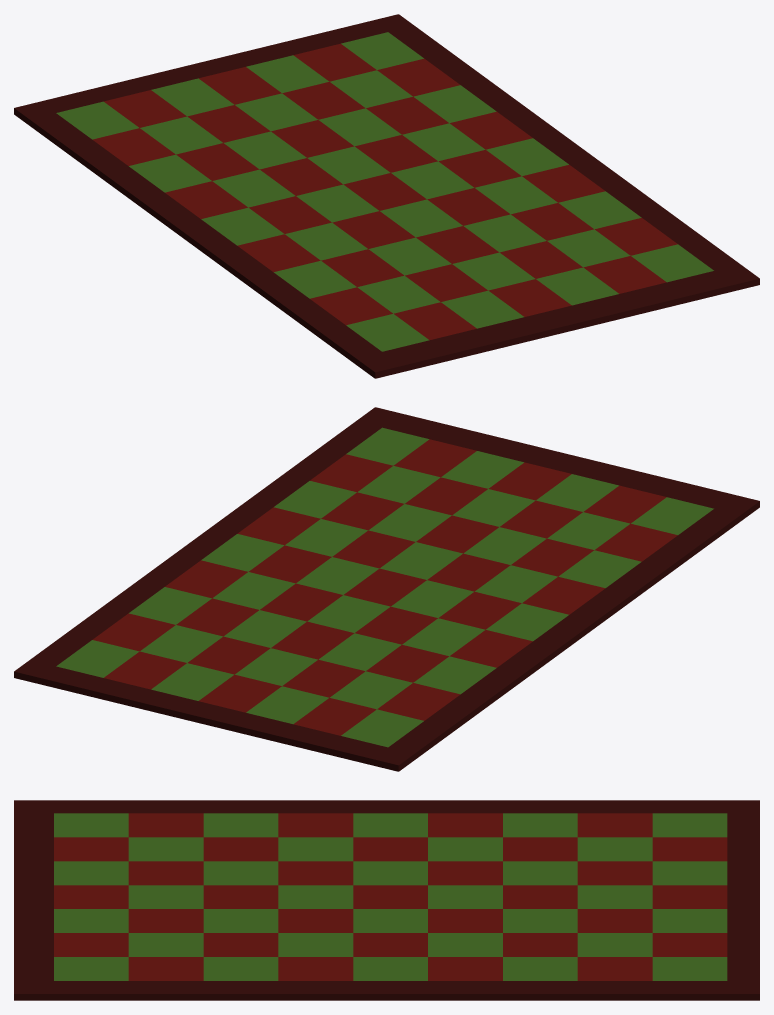
File: rug.obj
3 views of the same model, one above another, from view 1: azimuth 30°, elevation 25°; view 2: azimuth 150°, elevation 25°; view 3: azimuth 270°, elevation 25° (orthographic). The views are drawn at different scales.
Visible parts, largest first — view 1: Cube; view 2: Cube; view 3: Cube.
Boxes of the visible parts, <box> form: Cube: <box>14,14,759,378</box>; Cube: <box>14,407,759,771</box>; Cube: <box>14,800,759,1000</box>.
Size of the model in its own units: 12.64 by 0.203 by 20.56.
